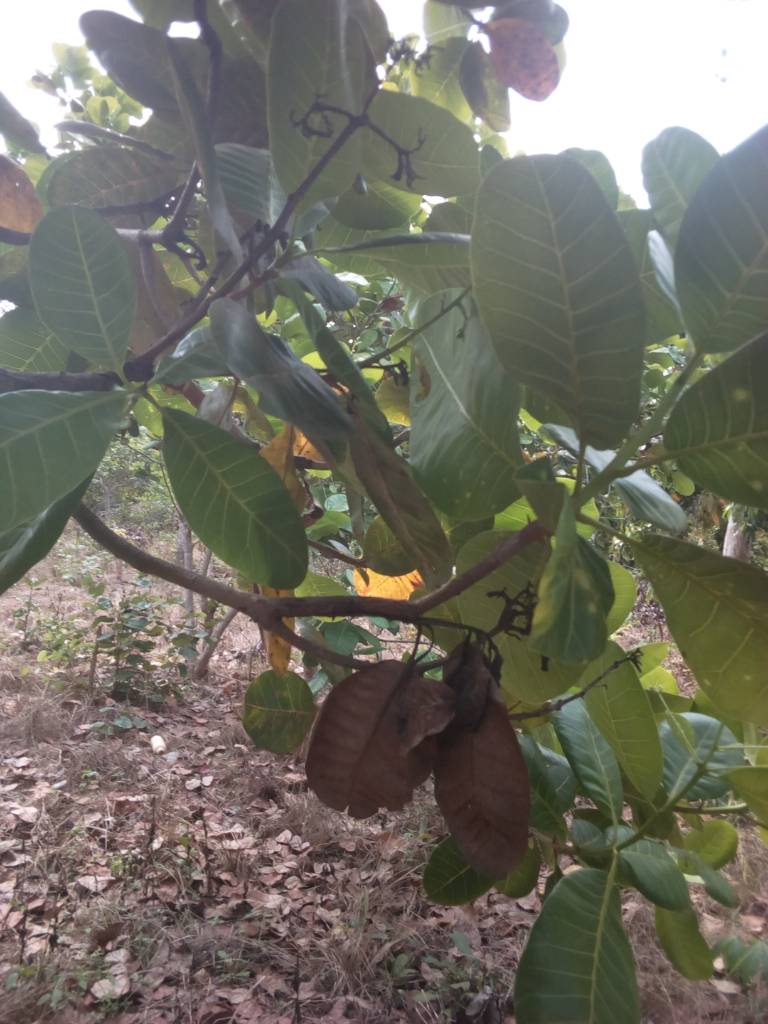Dessèchement des bourgeons: (294, 100, 422, 185), (375, 626, 503, 695), (236, 217, 304, 288), (488, 588, 538, 636)
